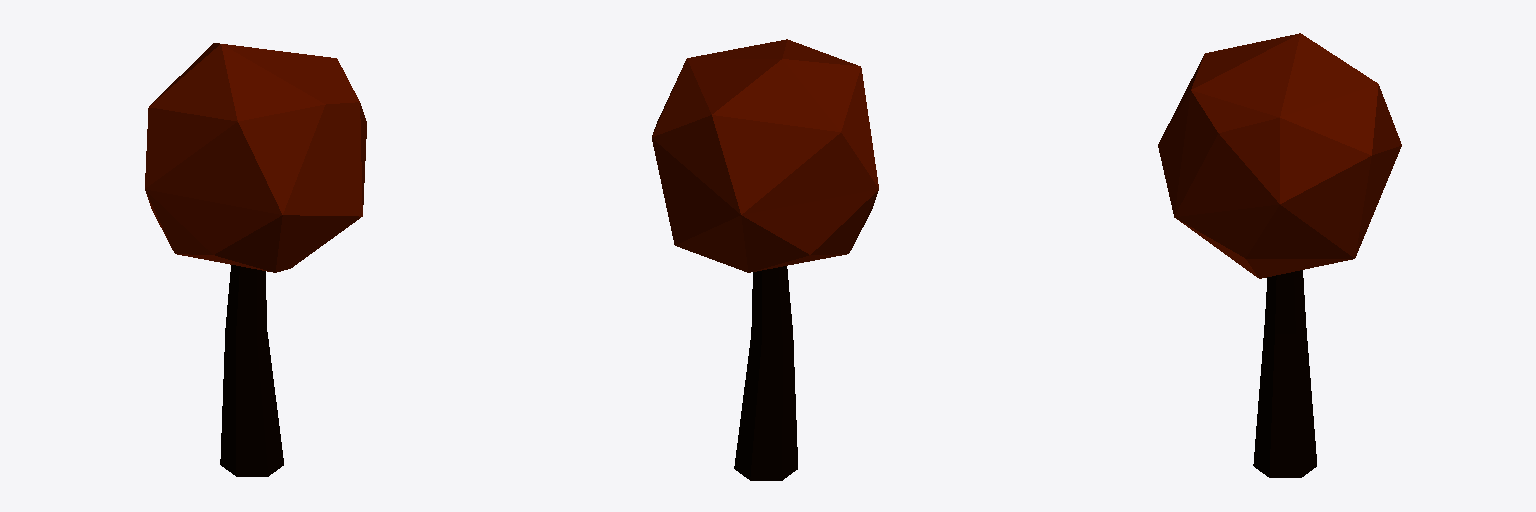
Rendered from tree1.obj.
3 renders of one model, left to right at view 1: azimuth 30°, elevation 25°; view 2: azimuth 150°, elevation 25°; view 3: azimuth 270°, elevation 25°, orthographic.
Parts seen in each view (by area): view 1: Icosphere_Icosphere.014, Cylinder_Cylinder.006; view 2: Icosphere_Icosphere.014, Cylinder_Cylinder.006; view 3: Icosphere_Icosphere.014, Cylinder_Cylinder.006.
Part boxes in pixels (bbox=[...]): Icosphere_Icosphere.014: bbox=[145, 43, 366, 272]; Cylinder_Cylinder.006: bbox=[220, 265, 283, 476]; Icosphere_Icosphere.014: bbox=[652, 39, 878, 272]; Cylinder_Cylinder.006: bbox=[734, 266, 797, 480]; Icosphere_Icosphere.014: bbox=[1158, 33, 1401, 278]; Cylinder_Cylinder.006: bbox=[1253, 270, 1316, 477].
Bounding box in the file's own units: 6.38 × 11.54 × 6.06.